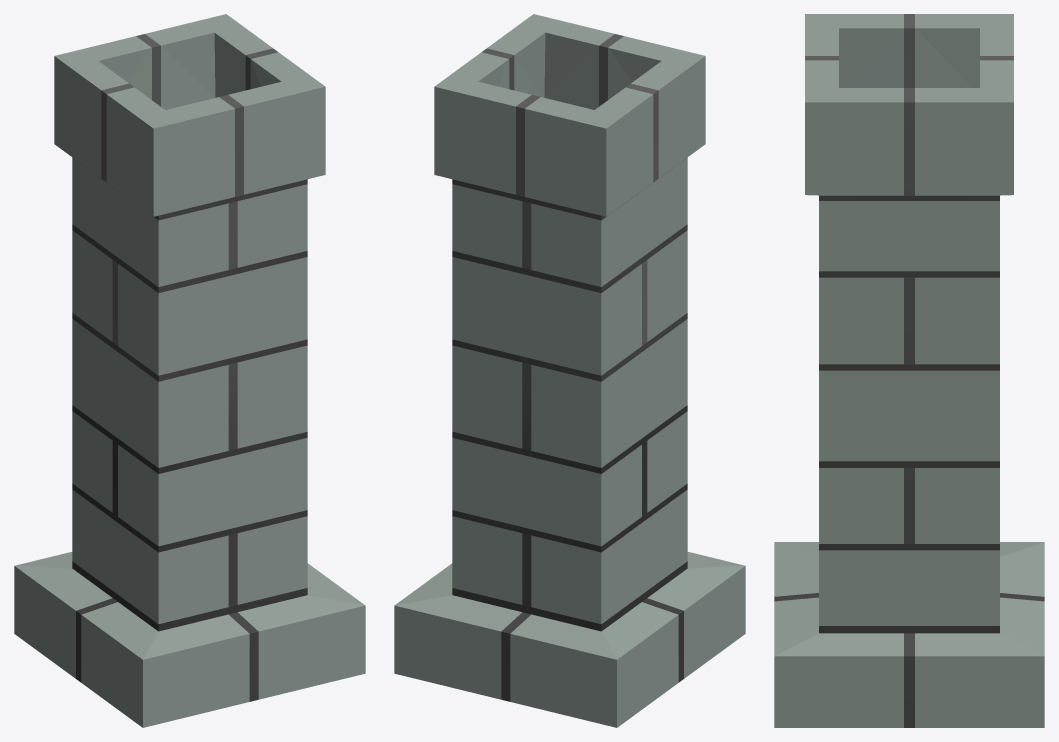
File: Roof_Chimney_01.fbx
3 views of the same model, side by side, from view 1: azimuth 30°, elevation 25°; view 2: azimuth 150°, elevation 25°; view 3: azimuth 270°, elevation 25° (orthographic). The views are drawn at different scales.
Parts seen in each view (by area): view 1: Roof_Chimney_01; view 2: Roof_Chimney_01; view 3: Roof_Chimney_01.
Part boxes in pixels (bbox=[...]): Roof_Chimney_01: bbox=[14, 14, 365, 727]; Roof_Chimney_01: bbox=[394, 14, 745, 727]; Roof_Chimney_01: bbox=[774, 14, 1044, 727].
Size of the model in its own units: 0.8 by 2 by 0.8.
